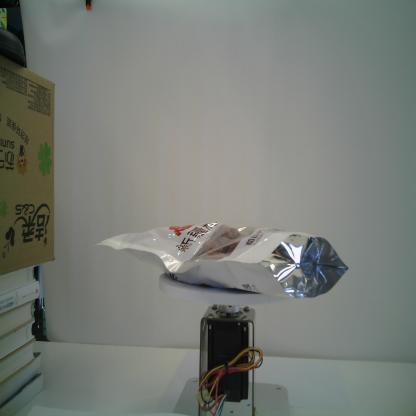Dried Food: (94, 222, 350, 299)
